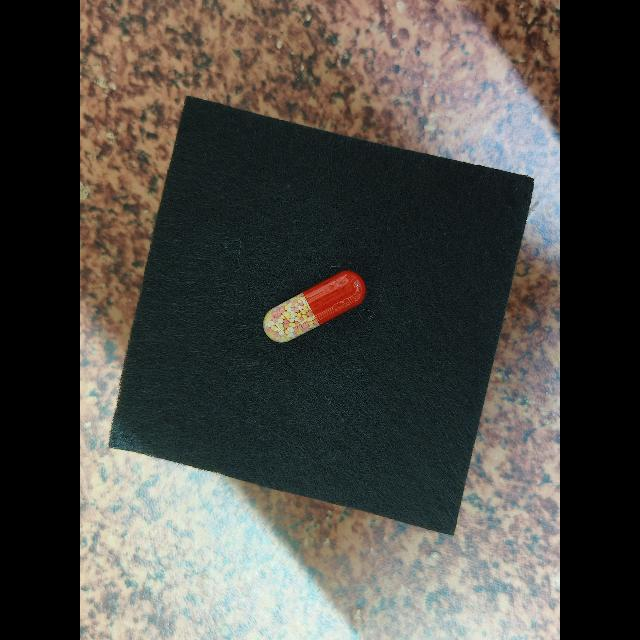Intact Capsule: (263, 270, 366, 343)
